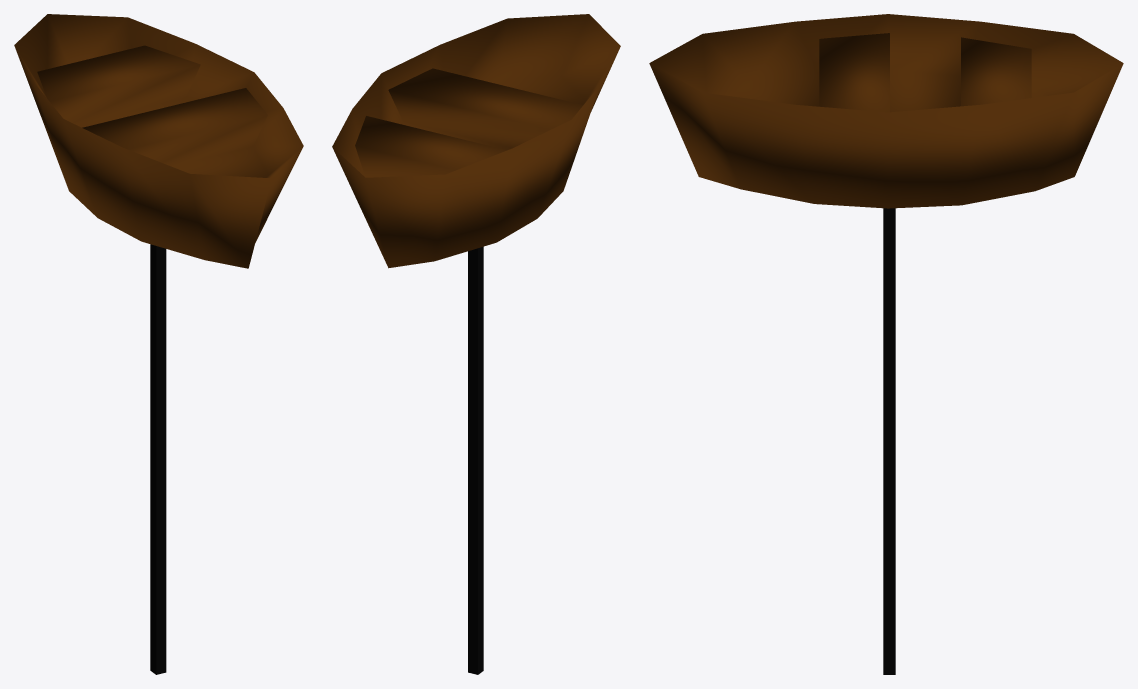
The model's file is boat.fbx.
3 renders of one model, left to right at view 1: azimuth 30°, elevation 25°; view 2: azimuth 150°, elevation 25°; view 3: azimuth 270°, elevation 25°, orthographic. The views are drawn at different scales.
Visible parts, largest first — view 1: Cube, Cube.001; view 2: Cube, Cube.001; view 3: Cube, Cube.001.
Boxes of the visible parts, x1,y1,x2,y2 form: Cube: (14, 14, 303, 268); Cube.001: (150, 244, 166, 674); Cube: (332, 14, 620, 268); Cube.001: (468, 246, 483, 674); Cube: (649, 14, 1123, 208); Cube.001: (883, 208, 895, 674).
Bounding box in the file's own units: 371 × 1071 × 756.
